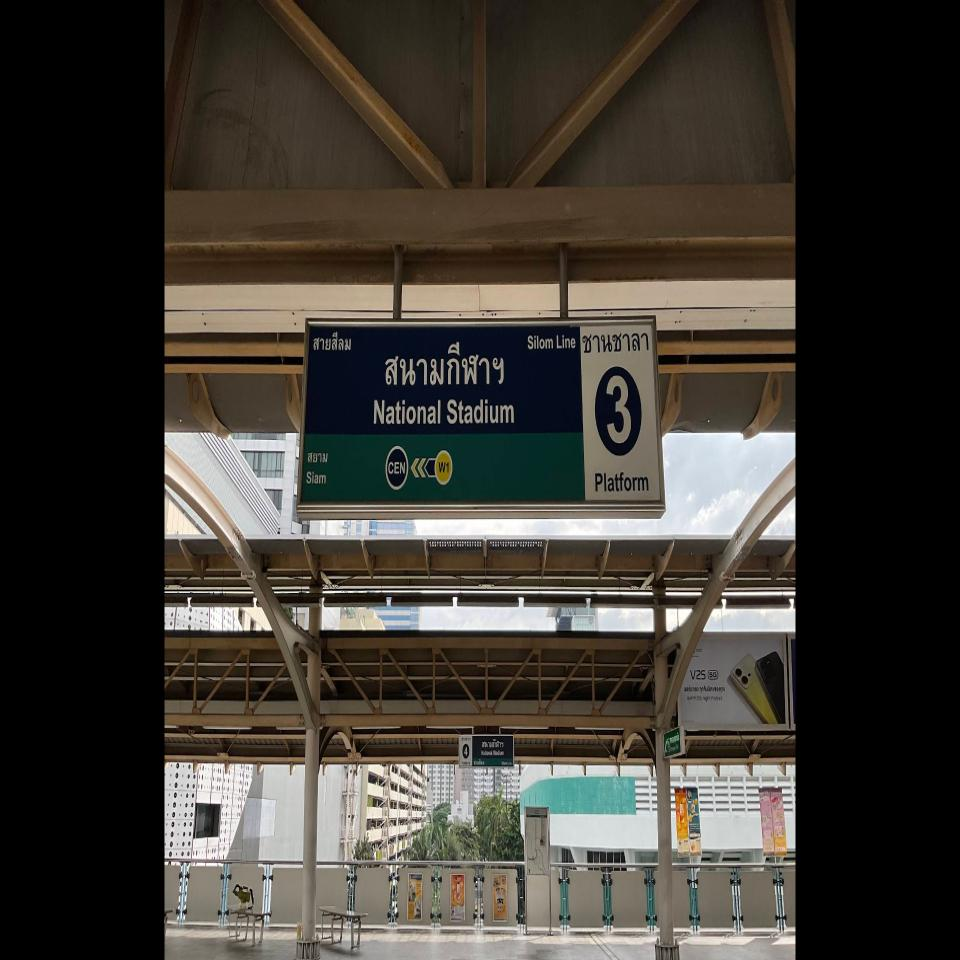signage: (373, 320, 515, 518)
